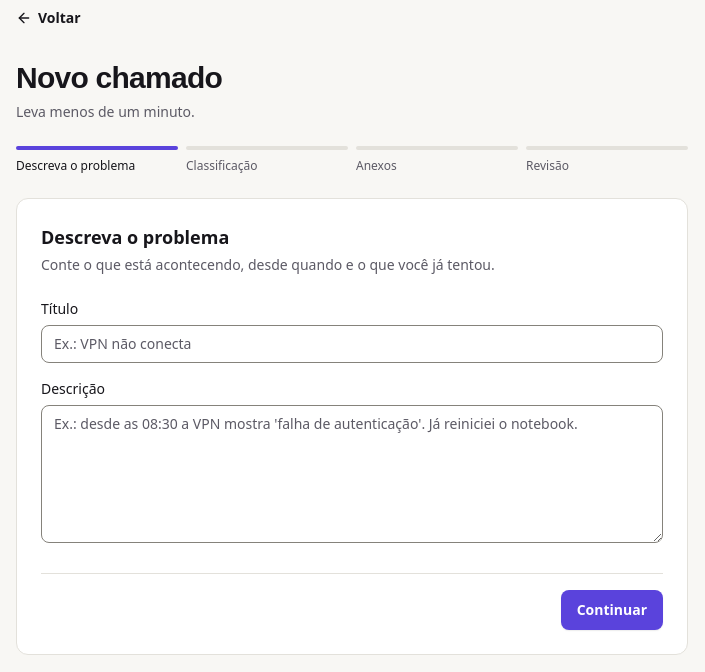
Test: NewTicketPage › volta etapas preservando o que foi digitado
Type "VPN não conecta" into the field labelled "Título" at (352, 344), box [41,325,663,363]
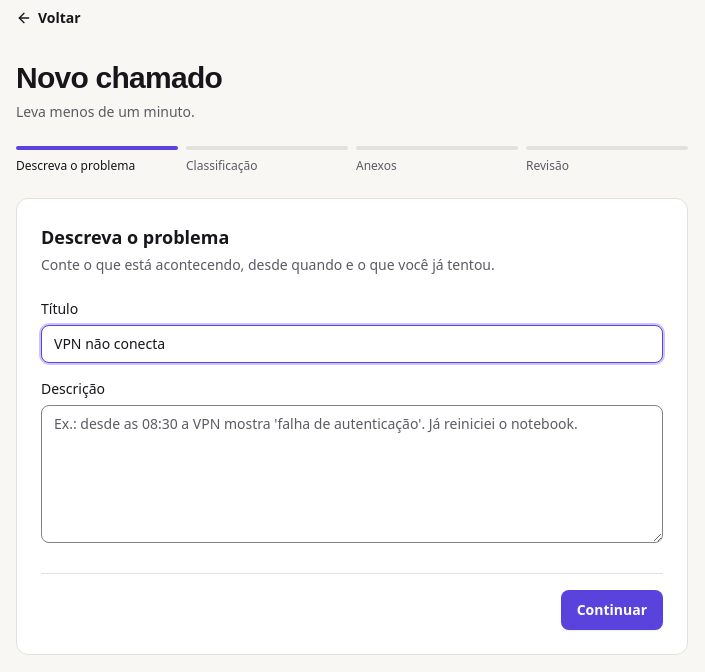
Type "Falha de autenticação desde as 08:30." into the text box labelled "Descrição" at (352, 474), box [41,405,663,543]
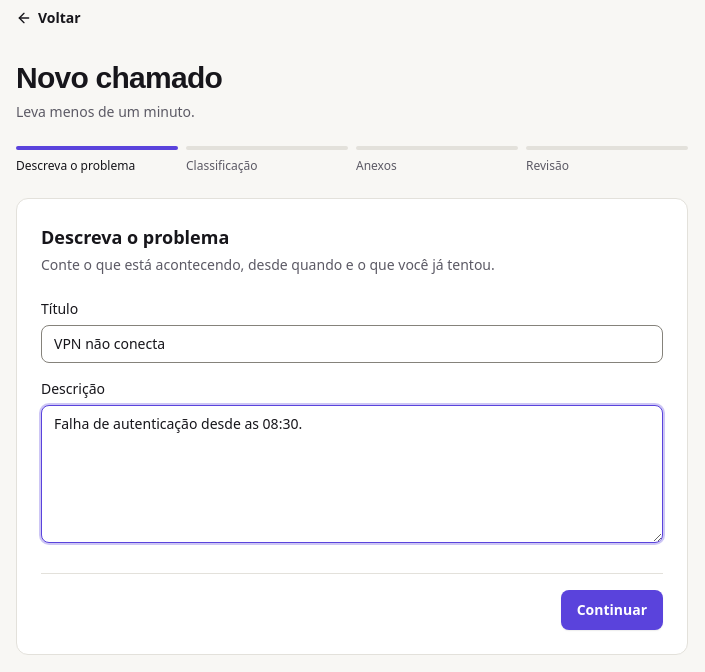
Click the button "Continuar" at (612, 610), box [561,590,663,630]
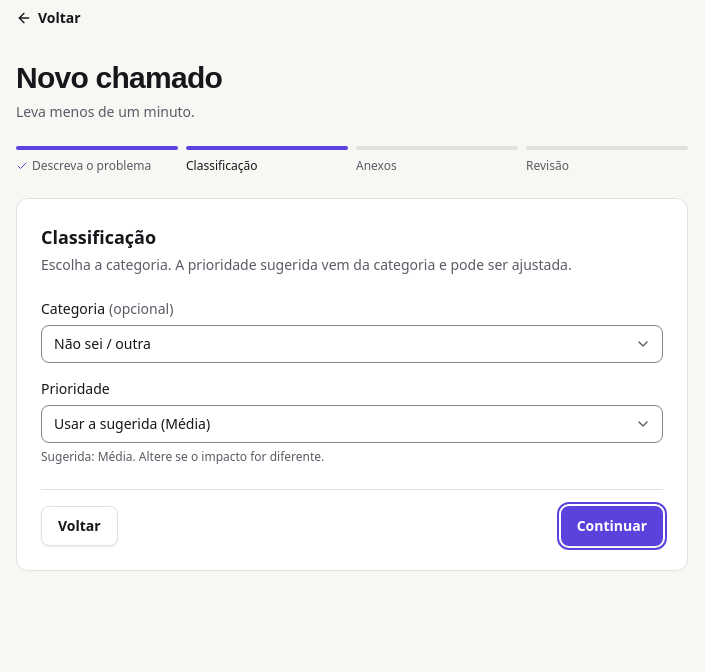
Click the button "Voltar" at (79, 526), box [41,506,118,546]
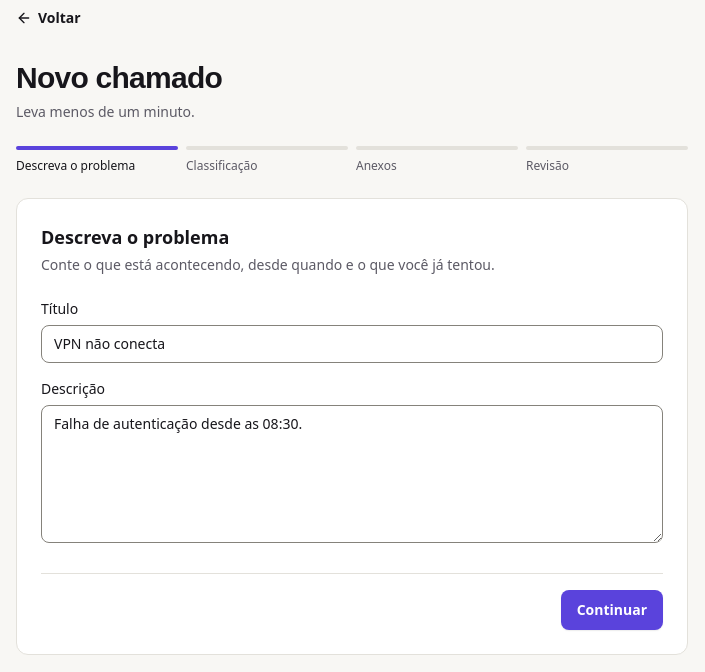
Expected: the field labelled "Título" holds "VPN não conecta", [41,325,663,363]
